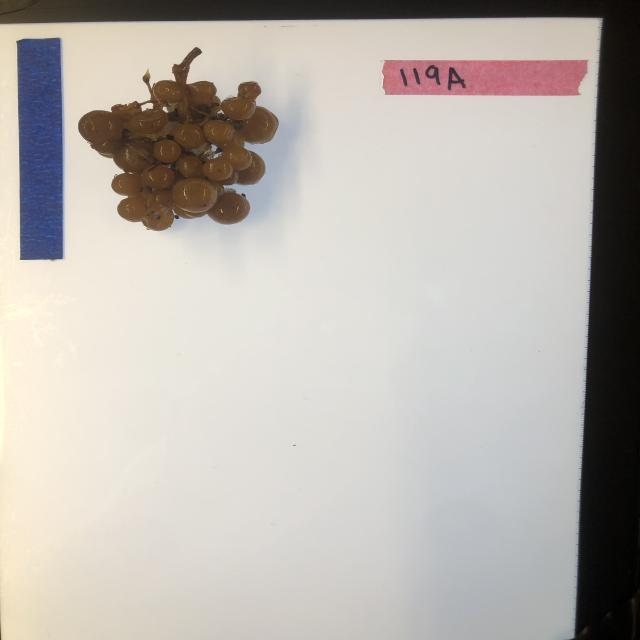grape_cluster: (73, 44, 283, 234)
index: (379, 56, 592, 97)
measure_label: (13, 34, 70, 262)
